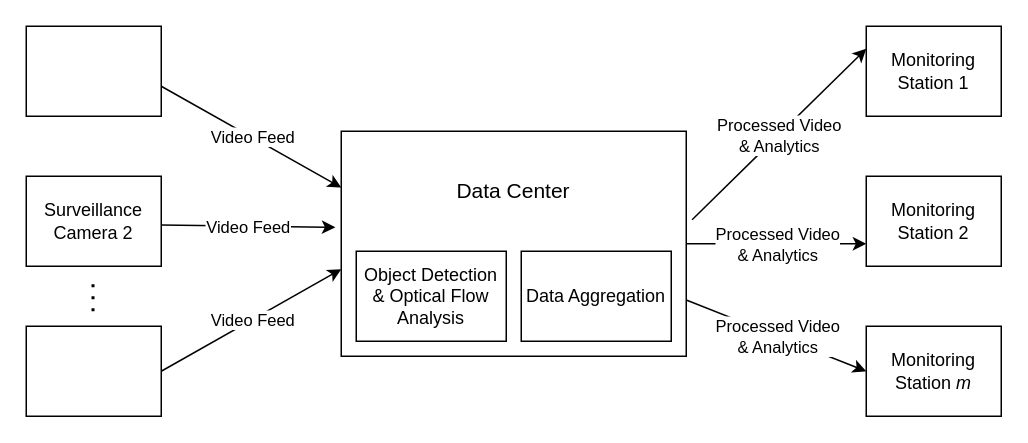
The diagram is 1028 pixels wide and 443 high, and some of its shapes have lost their labels. Each missing label, with the box of its shape:
Surveillance Camera 1: (25, 25, 161, 116)
Surveillance Camera n: (25, 325, 161, 416)
